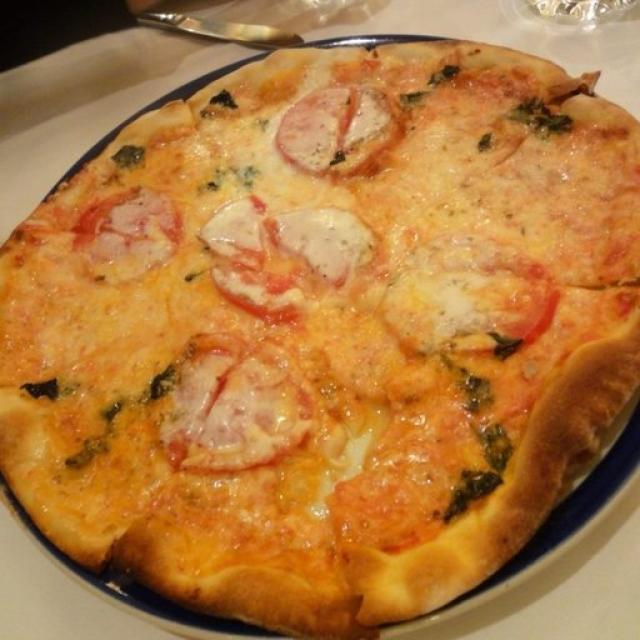Basil: (83, 366, 171, 470), (449, 373, 504, 520), (508, 90, 572, 138), (399, 60, 460, 101), (24, 374, 62, 403), (491, 330, 522, 357), (113, 144, 141, 167), (216, 86, 234, 113)
Pizza: (0, 39, 640, 635)
Tomato: (164, 343, 310, 468), (208, 200, 374, 306), (278, 82, 399, 171), (71, 192, 178, 272), (465, 272, 561, 356)
